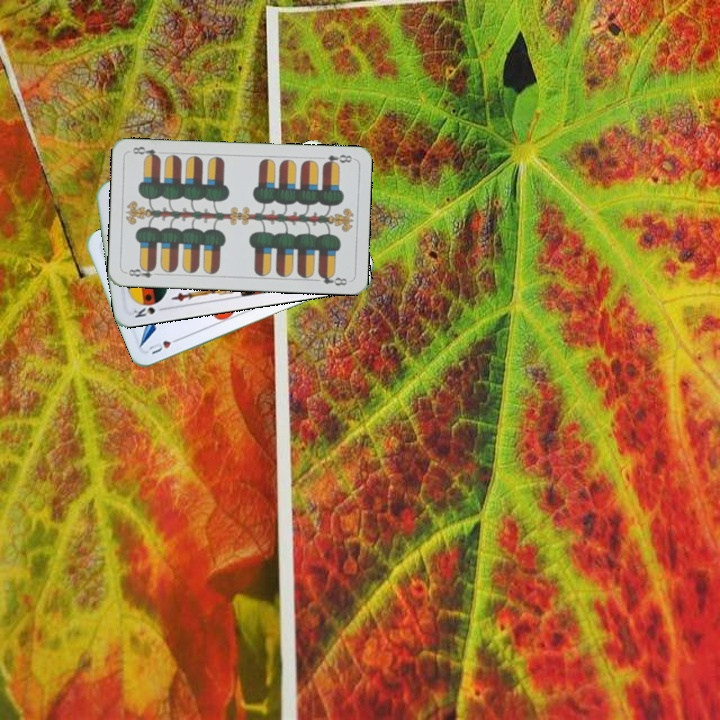E8: (122, 263, 163, 280), (319, 150, 354, 169)
HU: (145, 333, 184, 357)
SK: (129, 303, 169, 320)
